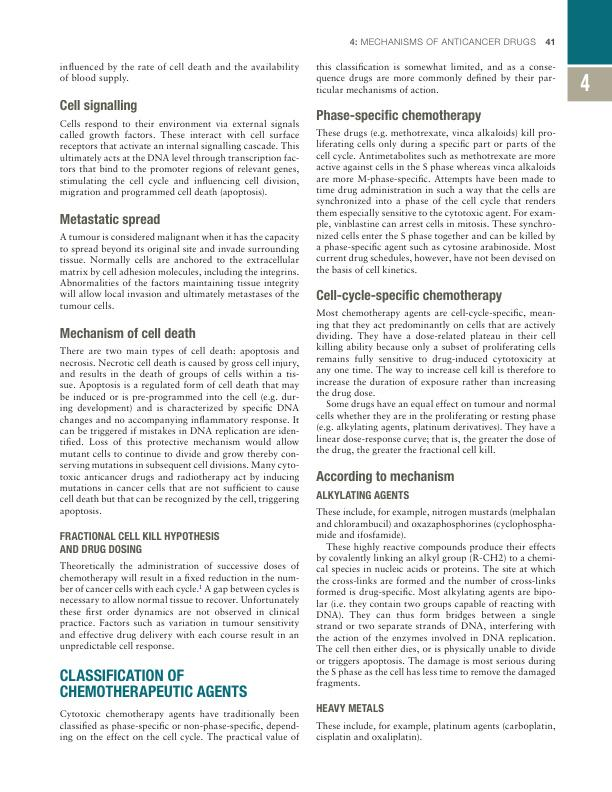header: (348, 37, 537, 47)
section-heading: (57, 667, 249, 699)
sub-section-heading: (59, 530, 221, 555), (316, 287, 503, 304), (315, 108, 484, 124), (315, 469, 455, 485), (58, 325, 197, 340), (58, 212, 162, 227), (58, 97, 139, 114), (314, 489, 412, 501), (315, 702, 386, 715)
text: (314, 506, 557, 690), (57, 345, 300, 519), (315, 307, 557, 458), (314, 127, 557, 275), (57, 560, 301, 652), (58, 118, 301, 201), (58, 231, 301, 311), (59, 708, 301, 744), (315, 61, 557, 95), (315, 719, 557, 744), (59, 60, 301, 85)
